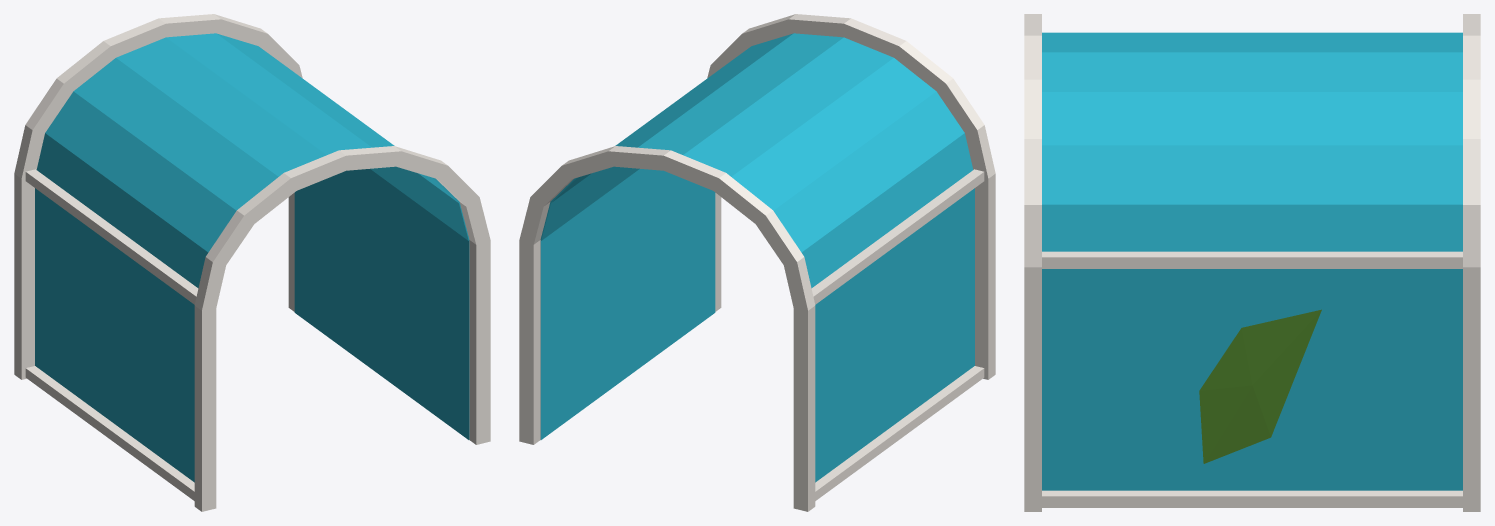
File: glass_canopy.glb
The picture shows the model from 3 angles, left to right: view 1: azimuth 30°, elevation 25°; view 2: azimuth 150°, elevation 25°; view 3: azimuth 270°, elevation 25°; orthographic projection. The views are drawn at different scales.
Parts seen in each view (by area): view 1: frutiger_aero_glass_canopy; view 2: frutiger_aero_glass_canopy; view 3: frutiger_aero_glass_canopy.
Part boxes in pixels (x1=…): frutiger_aero_glass_canopy: x1=14, y1=14, x2=490, y2=511; frutiger_aero_glass_canopy: x1=519, y1=14, x2=995, y2=511; frutiger_aero_glass_canopy: x1=1024, y1=14, x2=1480, y2=511.
Size of the model in its own units: 3.2 by 3.4 by 3.6.
Materials: 3 (3 with a texture image).
